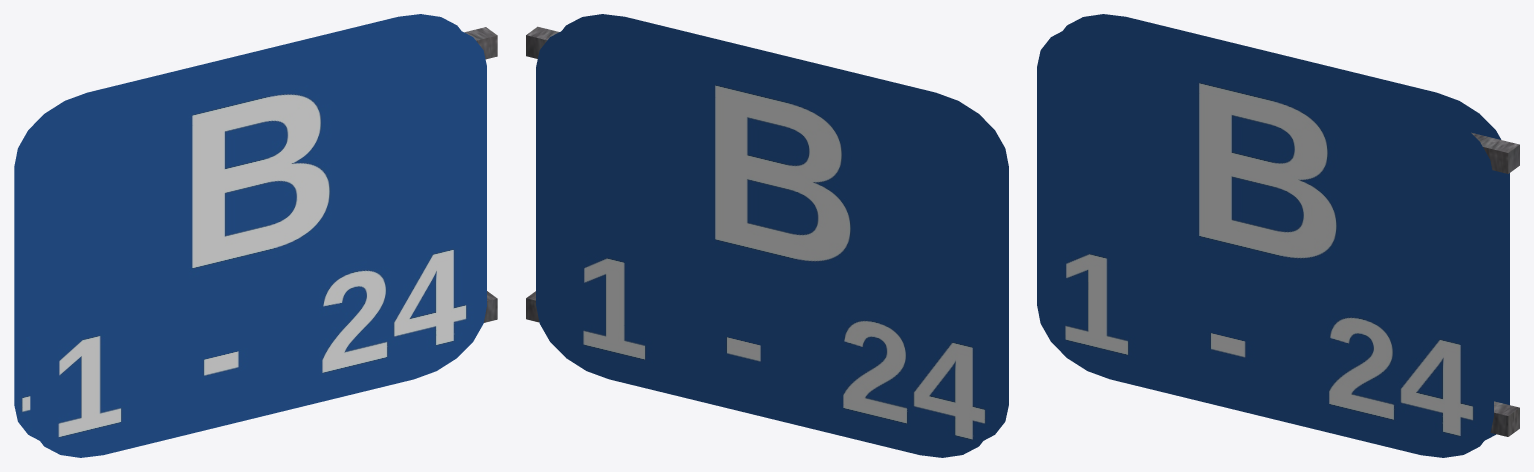
The picture shows the model from 3 angles, left to right: view 1: azimuth 30°, elevation 25°; view 2: azimuth 150°, elevation 25°; view 3: azimuth 330°, elevation 25°; orthographic projection.
Parts seen in each view (by area): view 1: Cube; view 2: Cube; view 3: Cube.
Part boxes in pixels (left/top/right/bottom): Cube: left=14, top=14, right=497, bottom=457; Cube: left=526, top=14, right=1008, bottom=457; Cube: left=1037, top=14, right=1519, bottom=457.
Size of the model in its own units: 0.9334 by 0.667 by 0.055.
Materials: 2 (2 with a texture image).
